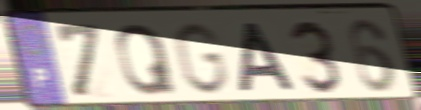3: (286, 16, 345, 96)
6: (346, 16, 398, 95)
7: (51, 21, 106, 101)
A: (235, 20, 300, 94)
G: (170, 20, 231, 97)
Q: (113, 21, 180, 98)
